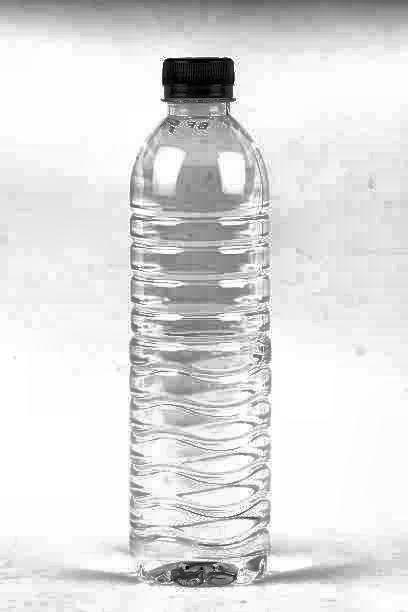waterbottle: (91, 41, 323, 595)
